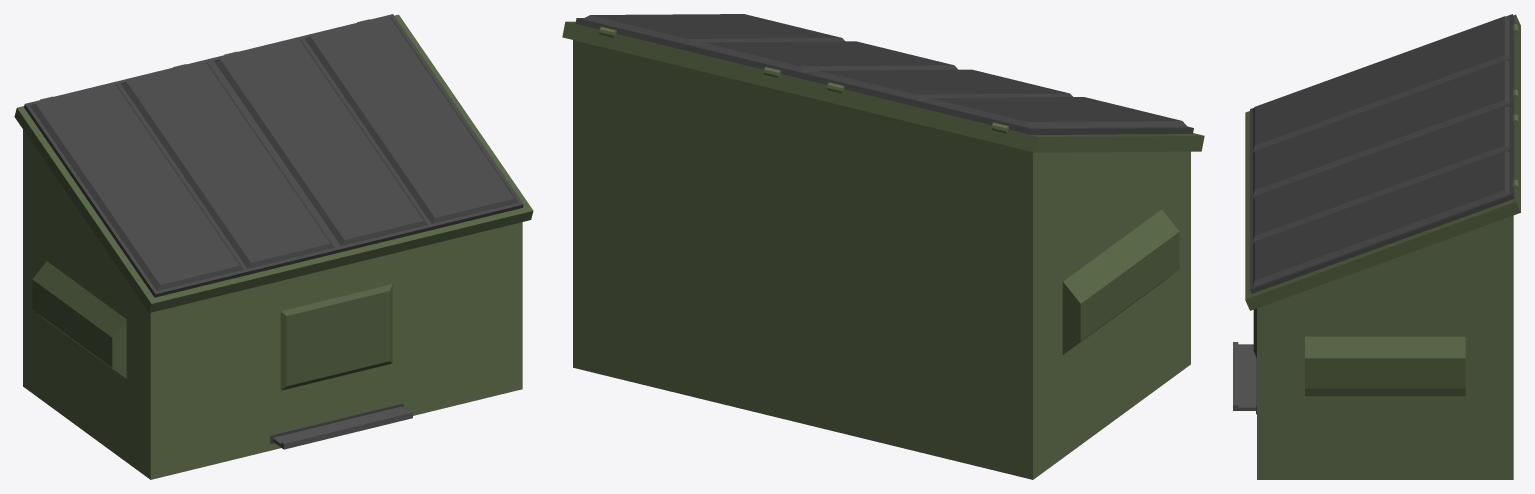
File: SM_Props_Trash_02.fbx
3 renders of one model, left to right at view 1: azimuth 30°, elevation 25°; view 2: azimuth 150°, elevation 25°; view 3: azimuth 270°, elevation 25°, orthographic. The views are drawn at different scales.
Parts seen in each view (by area): view 1: SM_Props_Trash_02; view 2: SM_Props_Trash_02; view 3: SM_Props_Trash_02.
Boxes of the visible parts, x1,y1,x2,y2 form: SM_Props_Trash_02: [14, 14, 533, 479]; SM_Props_Trash_02: [562, 14, 1204, 479]; SM_Props_Trash_02: [1233, 14, 1520, 479].
Bounding box in the file's own units: 2 × 1.35 × 1.23.
